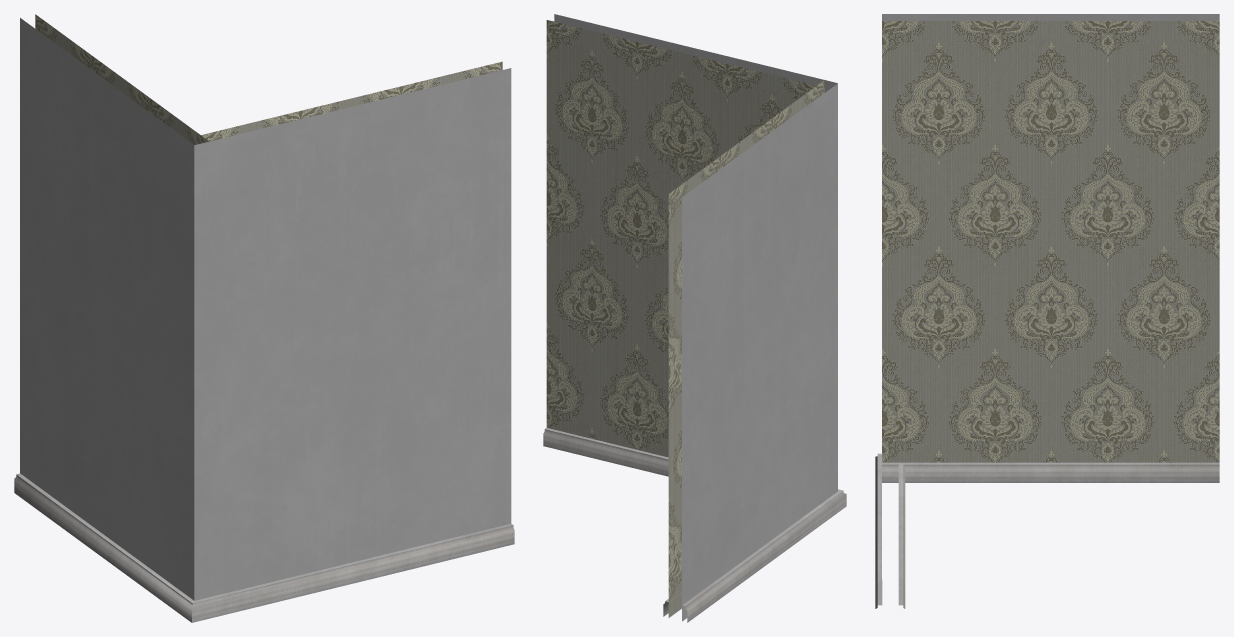
Rendered from Inner_Wall_Angle_01.fbx.
3 views of the same model, side by side, from view 1: azimuth 30°, elevation 25°; view 2: azimuth 150°, elevation 25°; view 3: azimuth 270°, elevation 25° (orthographic). The views are drawn at different scales.
Parts seen in each view (by area): view 1: Inner_Wall_Angle_01; view 2: Inner_Wall_Angle_01; view 3: Inner_Wall_Angle_01.
Boxes of the visible parts, <box> form: Inner_Wall_Angle_01: <box>14,14,514,622</box>; Inner_Wall_Angle_01: <box>543,14,846,622</box>; Inner_Wall_Angle_01: <box>875,14,1219,608</box>.
Bounding box in the file's own units: 214 × 300 × 204.
